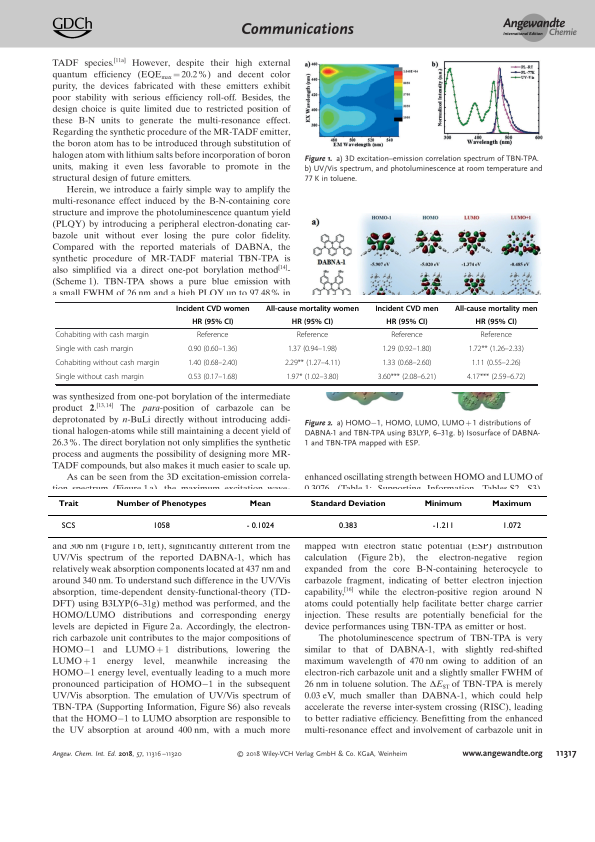borderless: (54, 300, 537, 384), (47, 494, 547, 537)
cell: (54, 358, 160, 368), (54, 330, 150, 340), (55, 372, 145, 382), (265, 304, 360, 313), (115, 499, 207, 508), (54, 344, 134, 354), (454, 304, 538, 313), (309, 499, 386, 508), (175, 304, 250, 313), (377, 372, 437, 382), (466, 372, 526, 382), (374, 304, 439, 313), (468, 344, 525, 354), (284, 358, 341, 368), (285, 372, 339, 382), (187, 344, 238, 354), (287, 344, 338, 354), (381, 344, 432, 354), (187, 358, 238, 368), (381, 358, 432, 368), (471, 358, 522, 368), (187, 372, 238, 382), (191, 317, 234, 327), (291, 317, 334, 327), (385, 317, 428, 327), (475, 317, 518, 327), (491, 499, 532, 508), (423, 499, 462, 508), (390, 330, 424, 340), (479, 330, 513, 340), (196, 330, 229, 340), (296, 330, 329, 340), (245, 521, 275, 529), (248, 499, 271, 508), (57, 499, 79, 508), (431, 521, 454, 529), (501, 521, 522, 529), (338, 521, 358, 529), (152, 521, 170, 529), (60, 521, 76, 529)
